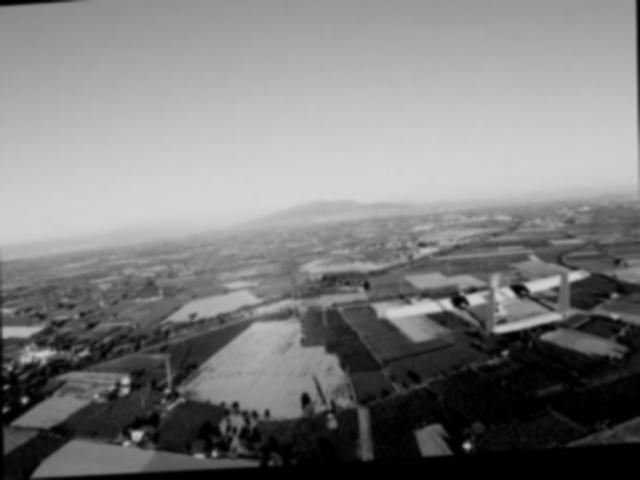hedef: (368, 265, 593, 364)
